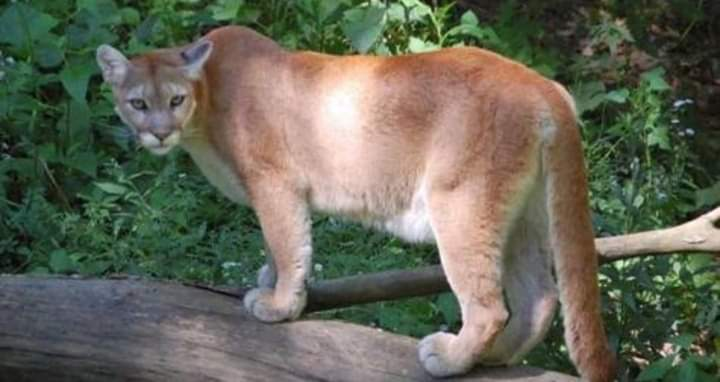OncaParda: (88, 19, 631, 379)
